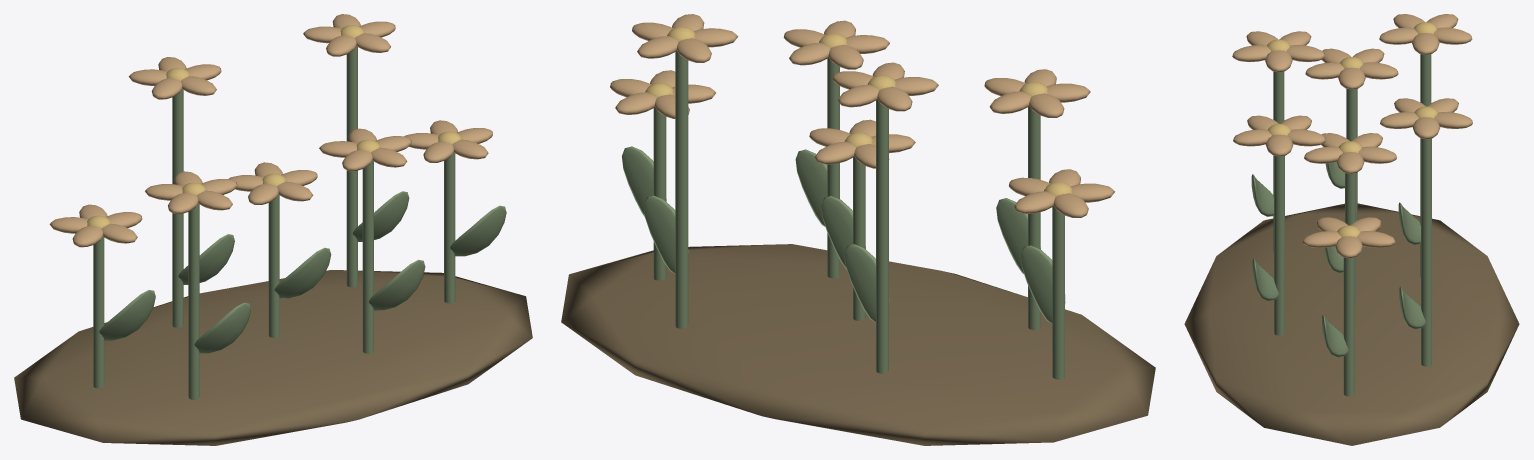
Rendered from flowerbed.glb.
3 renders of one model, left to right at view 1: azimuth 30°, elevation 25°; view 2: azimuth 150°, elevation 25°; view 3: azimuth 270°, elevation 25°, orthographic. The views are drawn at different scales.
Visible parts, largest first — view 1: grounded-soil-bed, flower-5-stem, flower-2-stem, flower-1-stem, flower-4-stem, flower-0-stem, flower-6-stem, flower-3-stem, flower-3-leaf, flower-6-leaf, flower-4-leaf, flower-0-leaf (+17 smaller); view 2: grounded-soil-bed, flower-5-stem, flower-2-stem, flower-0-stem, flower-1-stem, flower-0-leaf, flower-5-leaf, flower-4-stem, flower-2-leaf, flower-6-stem, flower-4-leaf, flower-3-leaf (+20 smaller); view 3: grounded-soil-bed, flower-5-stem, flower-4-stem, flower-6-stem, flower-2-stem, flower-0-stem, flower-1-stem, flower-4-leaf, flower-5-leaf, flower-6-leaf, flower-3-stem, flower-1-leaf (+34 smaller).
Boxes of the visible parts, x1,y1,x2,y2 form: grounded-soil-bed: [14, 270, 532, 445]; flower-5-stem: [346, 46, 357, 287]; flower-2-stem: [172, 89, 183, 327]; flower-1-stem: [188, 204, 199, 399]; flower-4-stem: [362, 161, 373, 353]; flower-0-stem: [93, 237, 104, 388]; flower-6-stem: [444, 153, 455, 303]; flower-3-stem: [268, 195, 279, 337]; flower-3-leaf: [274, 247, 331, 298]; flower-6-leaf: [450, 205, 506, 256]; flower-4-leaf: [369, 259, 425, 310]; flower-0-leaf: [99, 290, 155, 340]; grounded-soil-bed: [561, 244, 1155, 445]; flower-5-stem: [675, 51, 688, 328]; flower-2-stem: [876, 99, 888, 373]; flower-0-stem: [1052, 206, 1064, 379]; flower-1-stem: [1028, 106, 1040, 330]; flower-0-leaf: [1020, 245, 1065, 323]; flower-5-leaf: [643, 195, 688, 273]; flower-4-stem: [827, 58, 839, 278]; flower-2-leaf: [844, 244, 889, 322]; flower-6-stem: [653, 107, 666, 280]; flower-4-leaf: [795, 149, 840, 226]; flower-3-leaf: [821, 196, 865, 269]; grounded-soil-bed: [1184, 203, 1519, 445]; flower-5-stem: [1421, 138, 1431, 366]; flower-4-stem: [1274, 155, 1284, 335]; flower-6-stem: [1343, 257, 1354, 396]; flower-2-stem: [1420, 54, 1431, 277]; flower-0-stem: [1346, 88, 1357, 220]; flower-1-stem: [1273, 71, 1284, 252]; flower-4-leaf: [1252, 258, 1278, 300]; flower-5-leaf: [1399, 286, 1425, 329]; flower-6-leaf: [1322, 315, 1348, 357]; flower-3-stem: [1345, 173, 1355, 302]; flower-1-leaf: [1251, 174, 1273, 216].
Bounding box in the file's own units: 0.94 × 0.5303 × 0.546.
